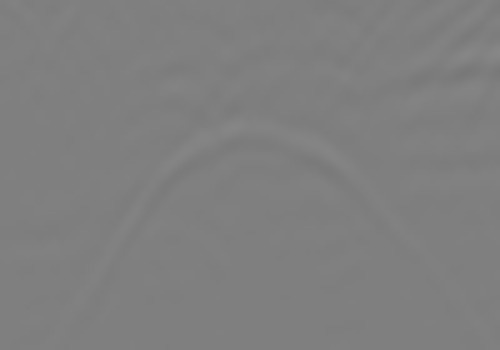hyperbola: (64, 112, 487, 328)
